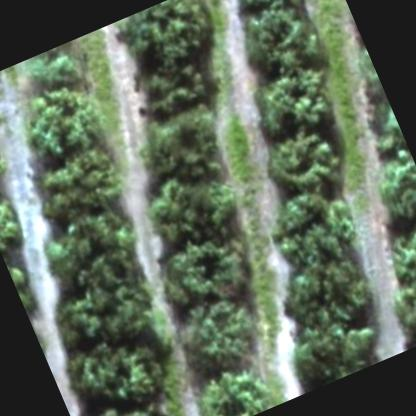Canopy-Citrus: (37, 238, 172, 356), (56, 316, 184, 415), (269, 242, 384, 342), (32, 193, 148, 288), (148, 220, 260, 318), (22, 132, 134, 228), (138, 158, 247, 254), (166, 284, 270, 384), (261, 178, 366, 277), (10, 70, 112, 166), (277, 308, 388, 396), (255, 110, 355, 206), (122, 44, 228, 134), (112, 0, 228, 82), (238, 48, 341, 140), (132, 103, 230, 186), (229, 0, 327, 82), (183, 353, 281, 415), (12, 41, 89, 104), (353, 88, 410, 167), (73, 380, 200, 415), (364, 147, 415, 234), (1, 245, 50, 322), (375, 206, 415, 290), (0, 175, 35, 259), (383, 257, 415, 348), (343, 41, 386, 106), (224, 0, 324, 22), (0, 114, 14, 189), (394, 308, 415, 353)
